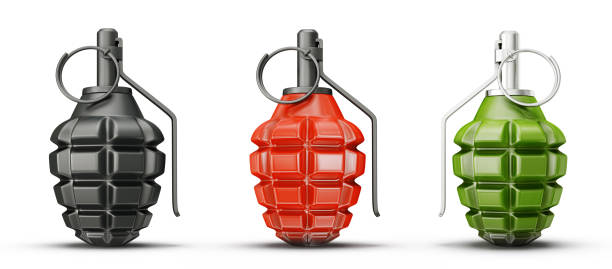e1: (41, 24, 182, 244), (439, 32, 571, 242), (252, 28, 378, 244)
